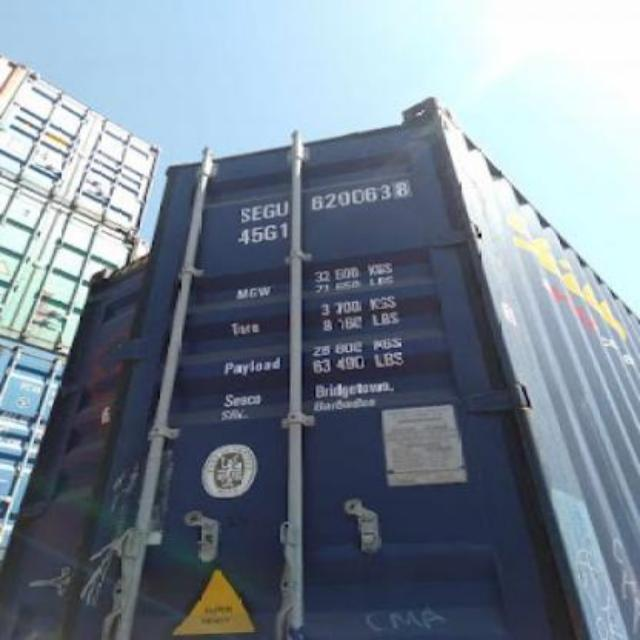0: (338, 190, 352, 206), (352, 188, 364, 202)
2: (326, 192, 338, 208)
3: (378, 183, 394, 199)
6: (364, 187, 380, 203), (310, 198, 326, 212)
8: (394, 180, 412, 198)
E: (250, 207, 264, 223)
G: (262, 202, 276, 218)
S: (236, 207, 252, 223)
U: (274, 201, 290, 217)
